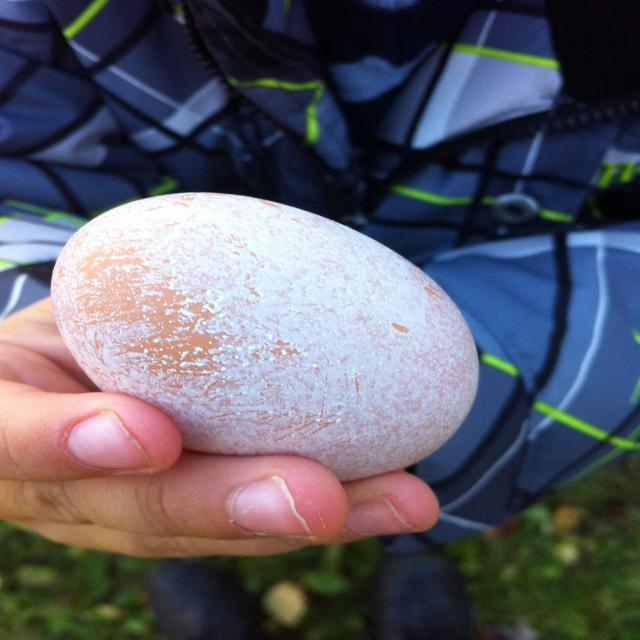Calcium Deposit Egg: (48, 183, 483, 483)
